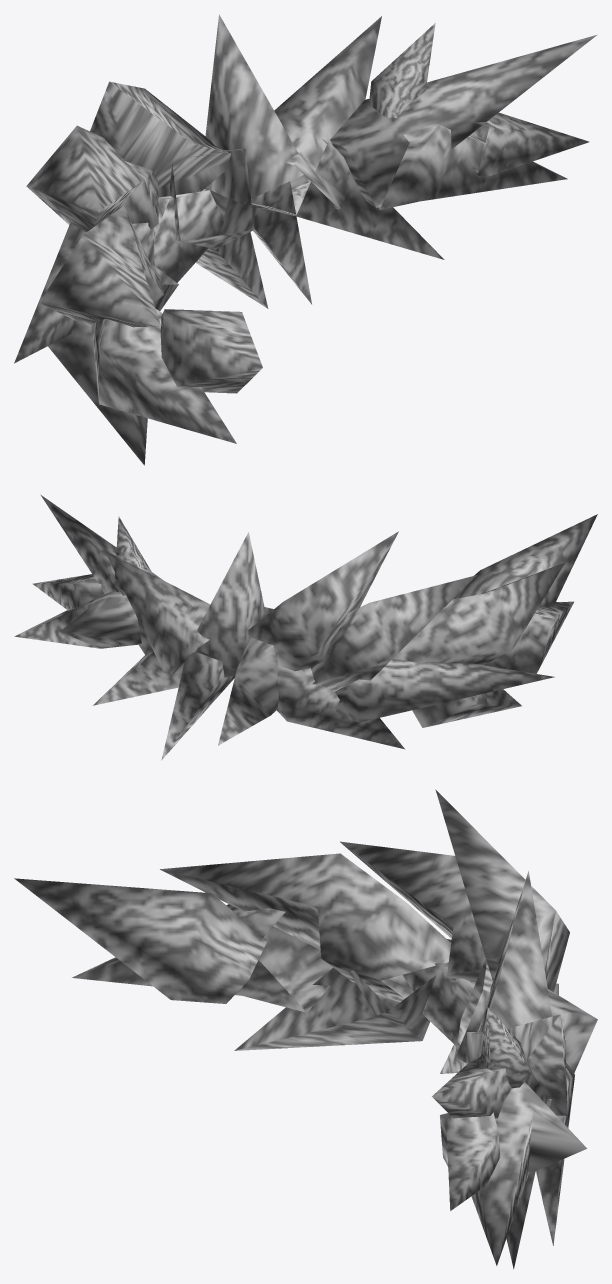
File: Wig_Kate_Hair_MohawkFlat.fbx
The picture shows the model from 3 angles, top to bottom: view 1: azimuth 30°, elevation 25°; view 2: azimuth 150°, elevation 25°; view 3: azimuth 270°, elevation 25°; orthographic projection. The views are drawn at different scales.
Visible parts, largest first — view 1: BoxOfJars003; view 2: BoxOfJars003; view 3: BoxOfJars003.
Part boxes in pixels (<box>): BoxOfJars003: <box>14,14,597,465</box>; BoxOfJars003: <box>14,494,597,760</box>; BoxOfJars003: <box>14,789,597,1269</box>.
Size of the model in its own units: 15.82 by 7.78 by 12.48.
